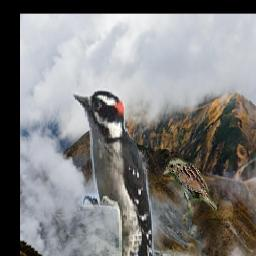Sparrow: (163, 158, 218, 225)
Woodpecker: (72, 88, 157, 256)
